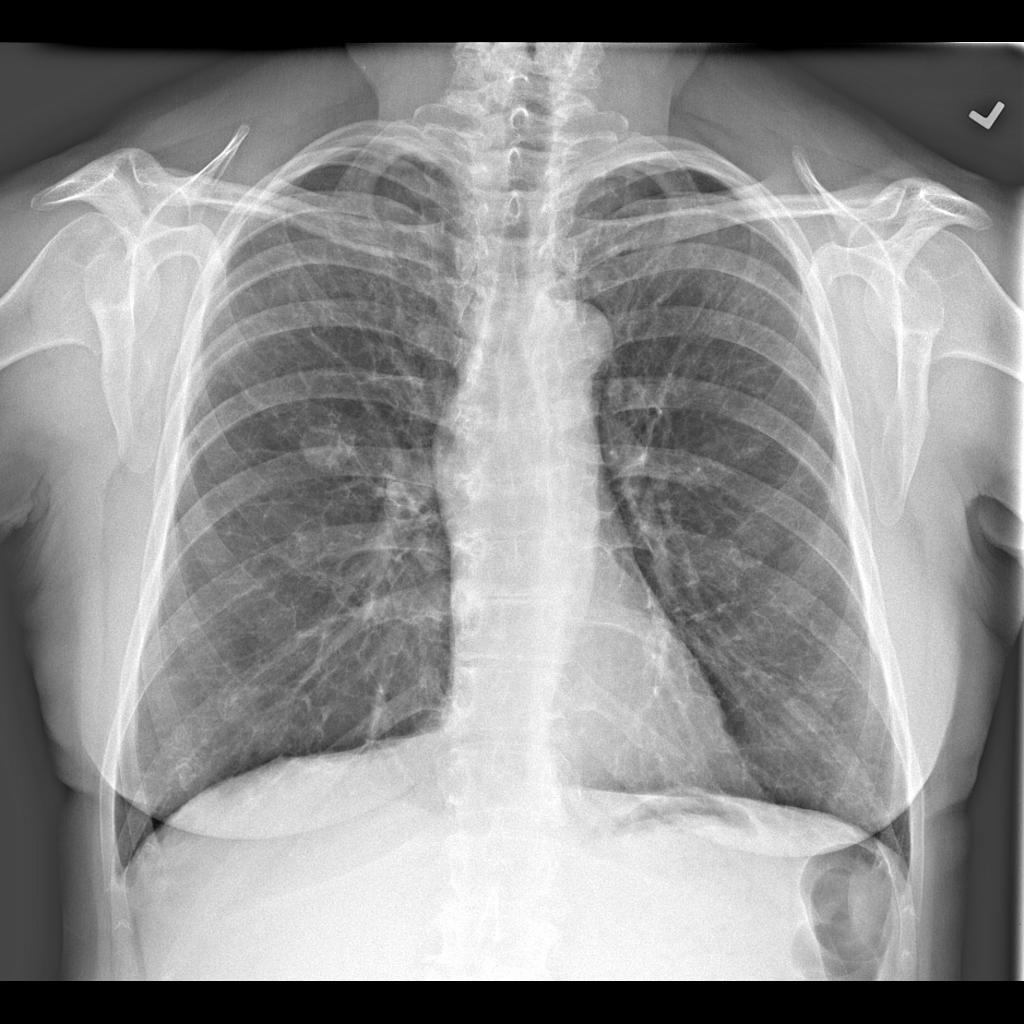Nodule: (300, 426, 359, 473)
